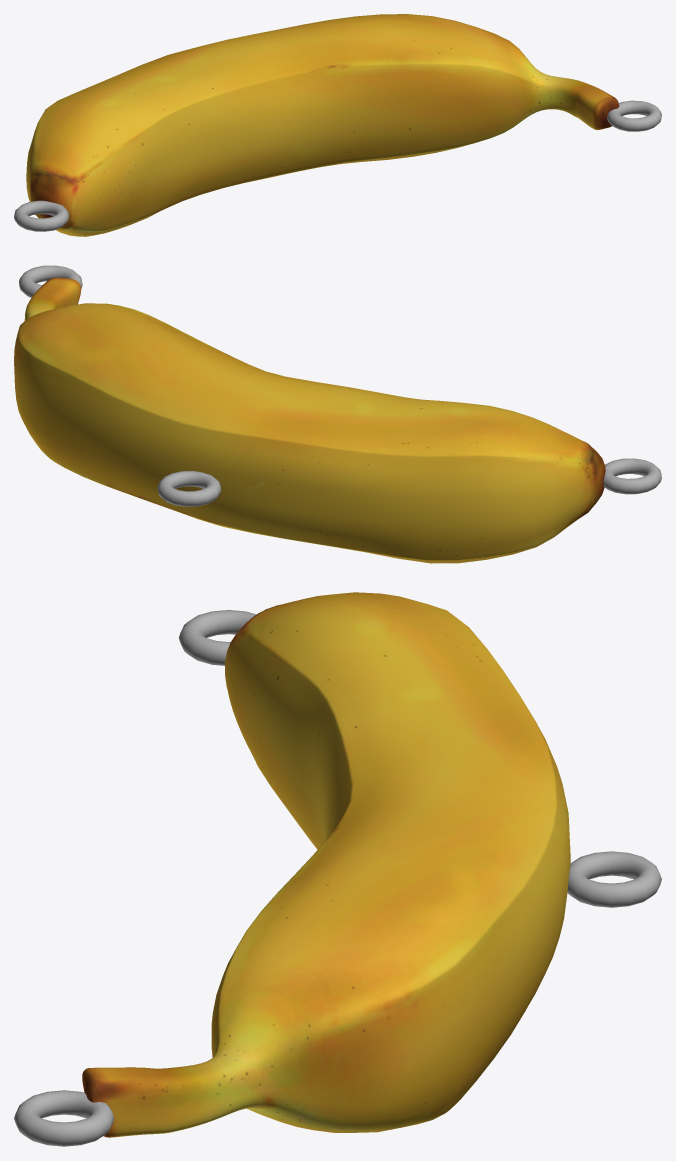
File: banana.gltf
3 views of the same model, one above another, from view 1: azimuth 30°, elevation 25°; view 2: azimuth 150°, elevation 25°; view 3: azimuth 270°, elevation 25° (orthographic). The views are drawn at different scales.
Parts seen in each view (by area): view 1: 21942_Banana_v1; view 2: 21942_Banana_v1; view 3: 21942_Banana_v1.
Boxes of the visible parts, bbox=[...] form: 21942_Banana_v1: bbox=[14, 14, 661, 236]; 21942_Banana_v1: bbox=[14, 265, 661, 563]; 21942_Banana_v1: bbox=[14, 592, 661, 1146].
Bounding box in the file's own units: 9.35 × 1.89 × 4.9.
Materials: 1 (1 with a texture image).
